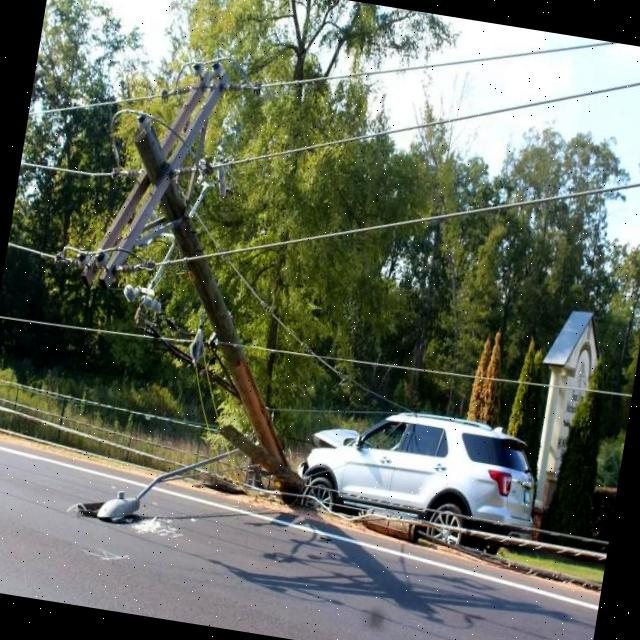Broken Pole: (71, 62, 313, 539)
